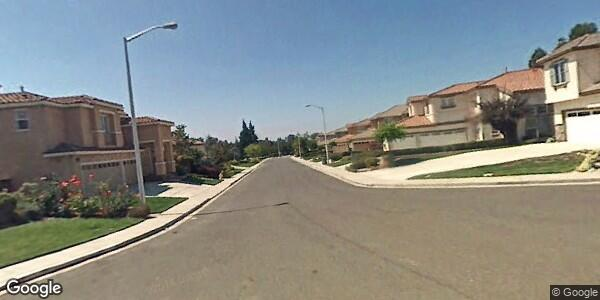Steel_Pole: (121, 21, 179, 216), (302, 102, 330, 165)
